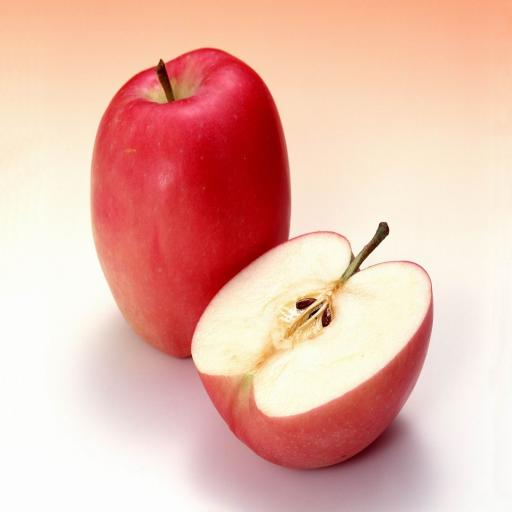apple: (192, 223, 433, 468)
